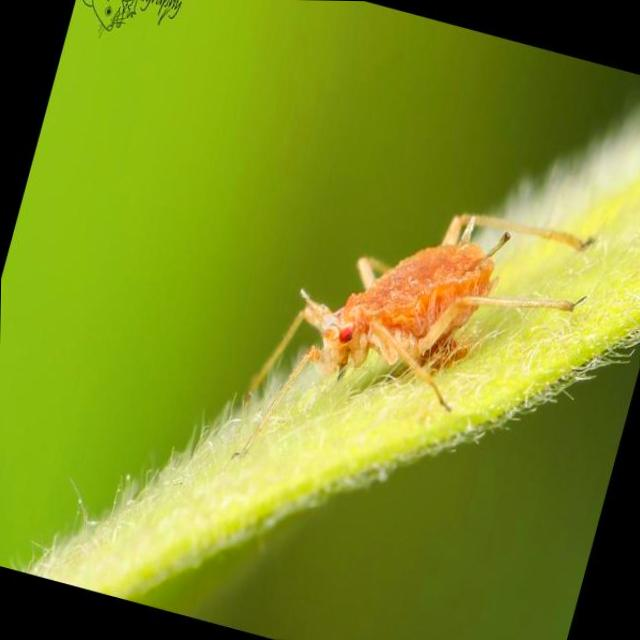aphid: (237, 122, 623, 512)
